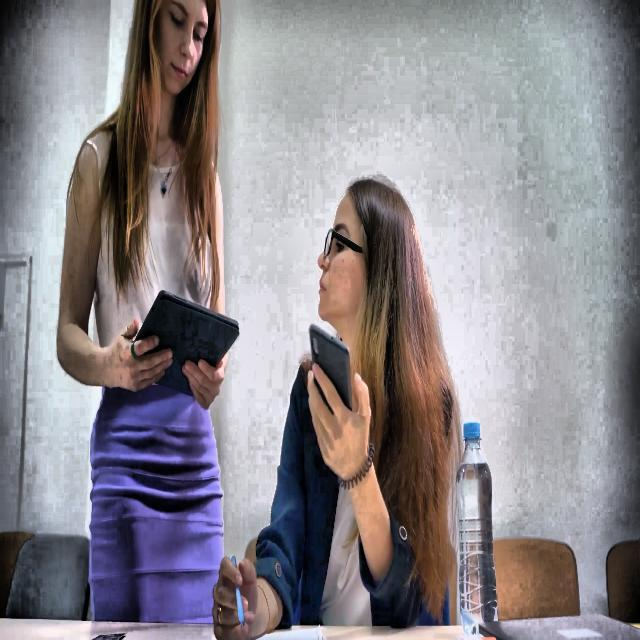Phone: (308, 321, 354, 418)
